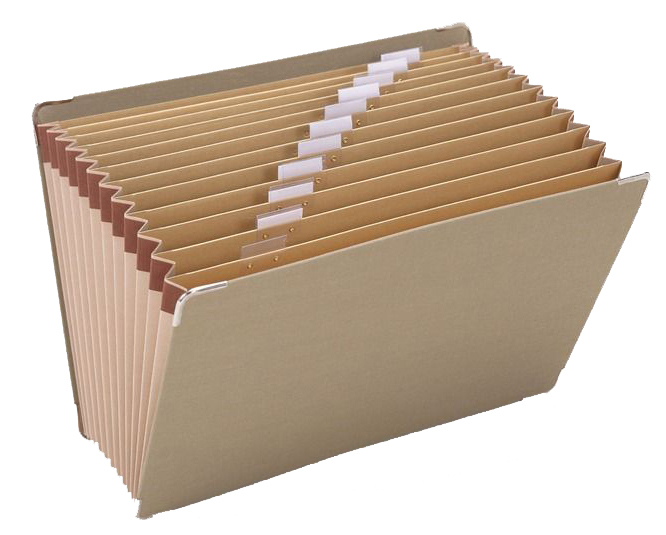Rec_Paper: (24, 31, 648, 467)
